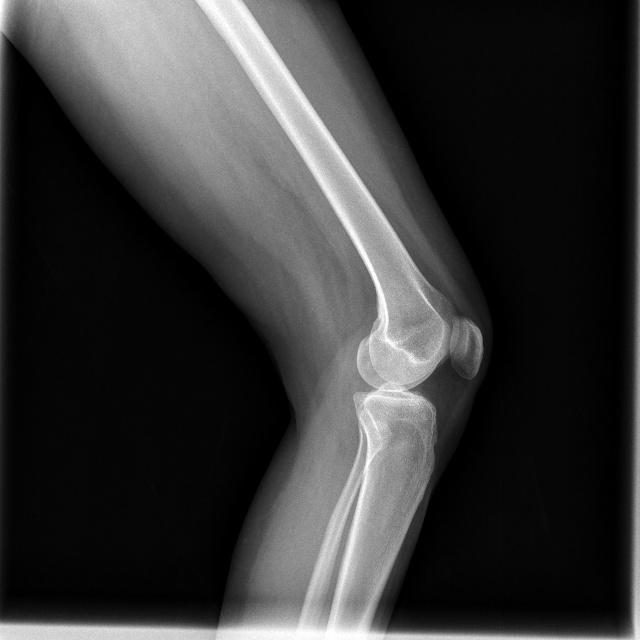Knee: (352, 294, 488, 453)
